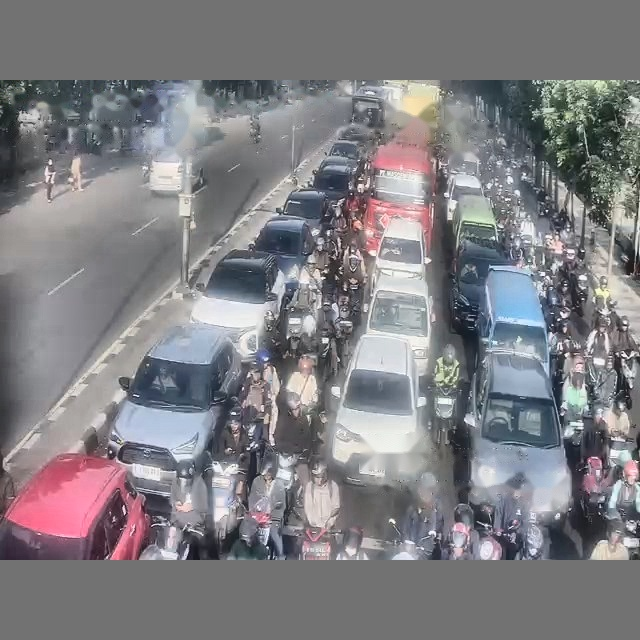Mobil: (107, 324, 242, 496), (464, 350, 571, 522), (0, 453, 149, 559), (328, 334, 426, 484), (190, 249, 285, 361), (366, 275, 433, 377), (449, 239, 509, 331), (250, 215, 314, 295), (371, 217, 430, 288), (276, 188, 331, 236), (444, 174, 483, 221), (312, 163, 355, 202), (148, 149, 184, 193), (326, 140, 366, 166), (314, 156, 361, 174), (338, 123, 372, 144)
Motor: (140, 516, 204, 559), (432, 385, 457, 451)
